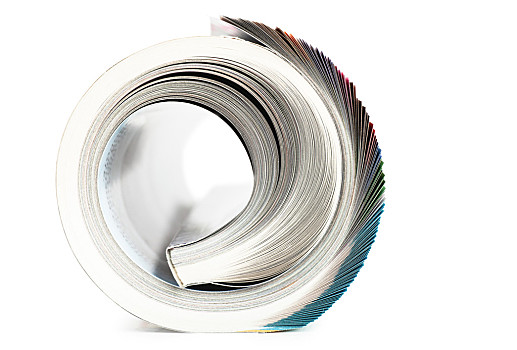book: (52, 9, 383, 337)
